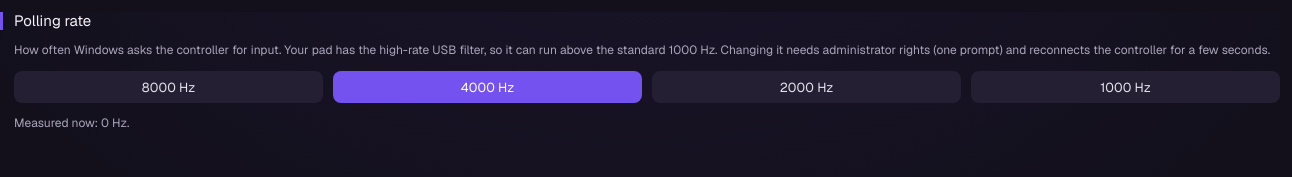
Test: PollingRatePrefs › a declined prompt keeps the old rate and explains
The image size is (1292, 177).
Check: the element showing "8000 Hz 4000 Hz 2000 Hz 1000 Hz" is shown, box [14,71,1280,103]
Click the radio button labelled "1000 Hz" at x=1126, y=87, box [971,71,1280,103]
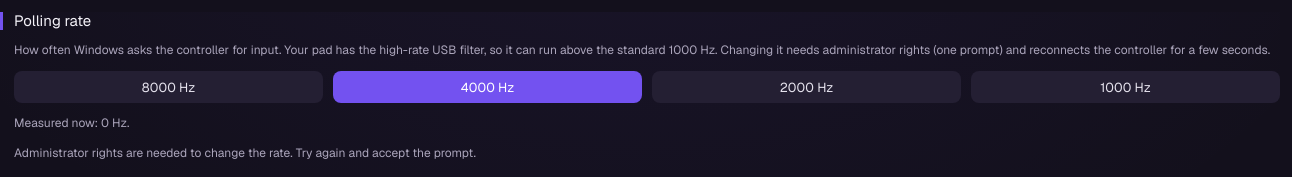
Check: the 2nd message shows "Administrator", box [14,145,476,161]
